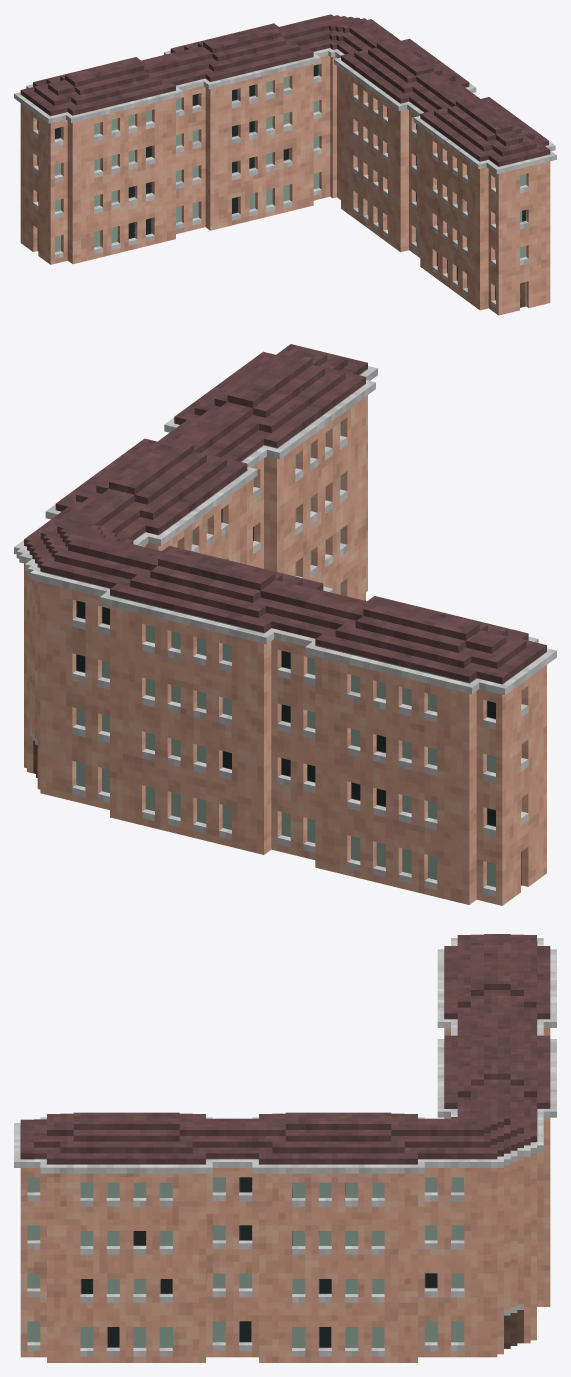
File: greene.fbx
The picture shows the model from 3 angles, top to bottom: view 1: azimuth 30°, elevation 25°; view 2: azimuth 150°, elevation 25°; view 3: azimuth 270°, elevation 25°; orthographic projection. The views are drawn at different scales.
Visible parts, largest first — view 1: Greene; view 2: Greene; view 3: Greene.
Boxes of the visible parts, x1,y1,x2,y2 form: Greene: (14, 14, 556, 315); Greene: (14, 344, 556, 905); Greene: (14, 934, 556, 1362).
Size of the model in its own units: 513 by 231 by 513.
1 material, 1 textured.
